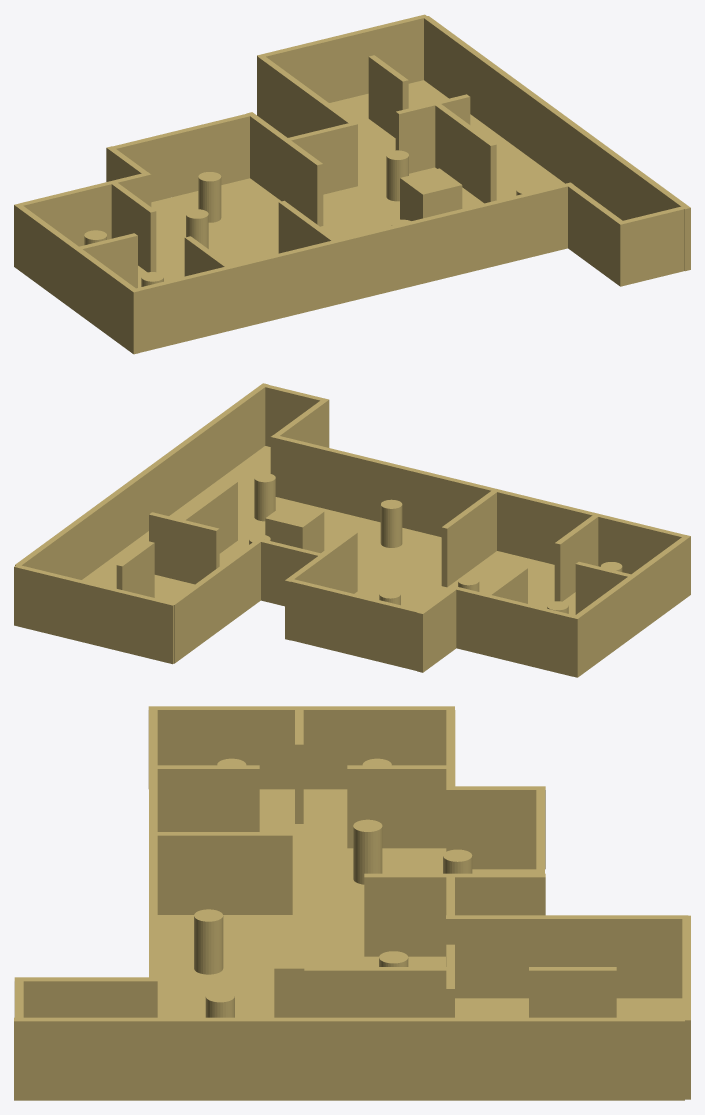
The model's file is training_env.obj.
3 renders of one model, top to bottom at view 1: azimuth 30°, elevation 25°; view 2: azimuth 150°, elevation 25°; view 3: azimuth 270°, elevation 25°, orthographic. The views are drawn at different scales.
Parts seen in each view (by area): view 1: Cube, Cube.006, Cube.001, Cube.002, Cube.004, Cube.007, Cube.005, Cube.003, Cylinder, Cylinder.004, Cylinder.006; view 2: Cube, Cube.003, Cube.002, Cube.006, Cube.001, Cube.007, Cube.005, Cylinder.003, Cylinder.005, Cube.004; view 3: Cube, Cube.004, Cube.006, Cube.003, Cube.001, Cube.007, Cube.002, Cylinder.003, Cylinder.006, Cube.005, Cylinder.005, Cylinder.
Part boxes in pixels (x1,y1,x2,y2): Cube: (14,14,690,354); Cube.006: (434,104,496,203); Cube.001: (283,140,323,226); Cube.002: (400,168,462,220); Cube.004: (111,182,156,272); Cube.007: (368,55,408,137); Cube.005: (76,233,137,288); Cube.003: (184,236,229,276); Cylinder: (198,172,221,222); Cylinder.004: (386,150,408,201); Cylinder.006: (186,209,208,248); Cube: (14,383,690,677); Cube.003: (554,515,598,601); Cube.002: (265,502,324,553); Cube.006: (180,480,237,553); Cube.001: (322,531,357,593); Cube.007: (116,541,154,597); Cube.005: (575,561,632,614); Cylinder.003: (380,499,402,547); Cylinder.005: (254,473,275,521); Cube.004: (485,567,527,603); Cube: (14,706,690,1100); Cube.004: (347,765,449,848); Cube.006: (304,967,449,1017); Cube.003: (157,765,259,831); Cube.001: (364,873,451,956); Cube.007: (529,967,616,1017); Cube.002: (274,944,332,1017); Cylinder.003: (194,909,223,974); Cylinder.006: (353,819,382,884); Cube.005: (295,709,303,823); Cylinder.005: (205,990,234,1017); Cylinder: (443,849,472,873).
Bounding box in the file's own units: 25.55 × 3 × 23.2.
